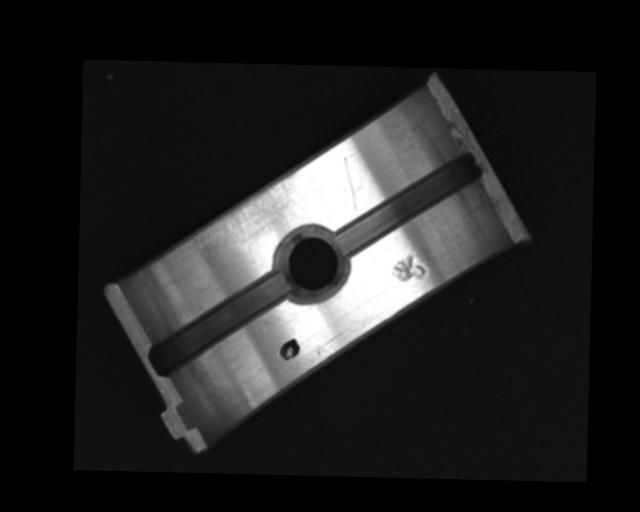blot: (278, 336, 300, 362)
bruise: (391, 251, 427, 282)
gap: (336, 149, 483, 256), (148, 270, 290, 378)
hole: (273, 225, 352, 305)
nick: (342, 157, 360, 217)
scratch: (180, 164, 303, 264)
